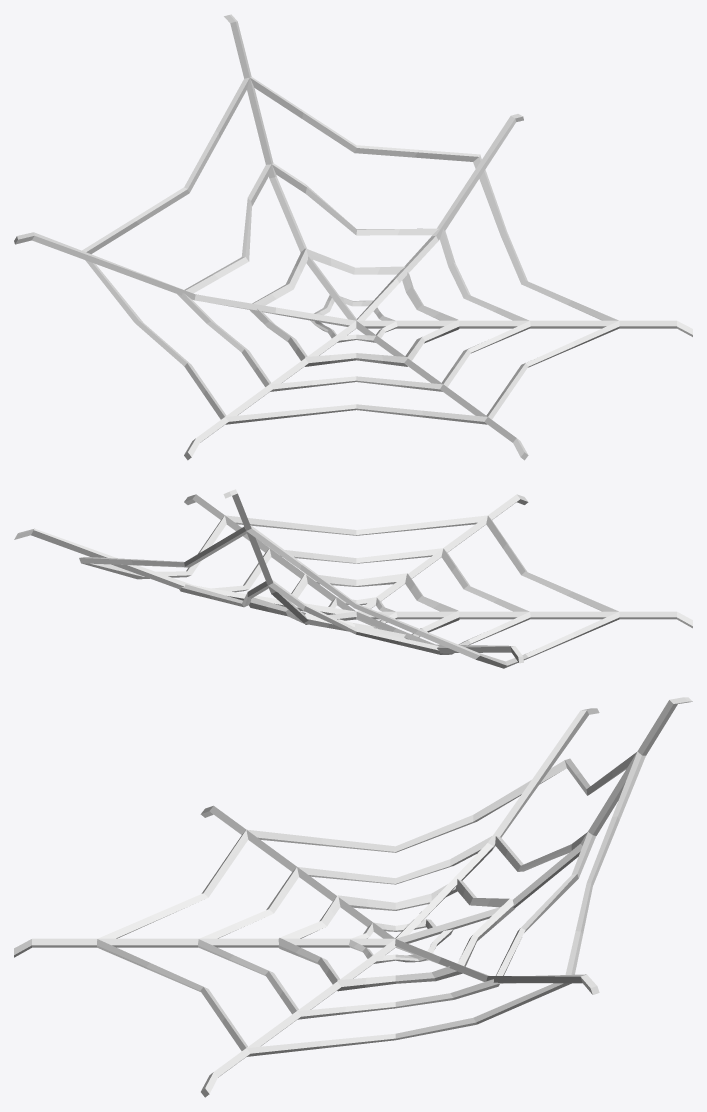
File: SpiderWebBottom.fbx
3 views of the same model, one above another, from view 1: azimuth 30°, elevation 25°; view 2: azimuth 150°, elevation 25°; view 3: azimuth 270°, elevation 25° (orthographic). The views are drawn at different scales.
Parts seen in each view (by area): view 1: SpiderWebBottom; view 2: SpiderWebBottom; view 3: SpiderWebBottom.
Boxes of the visible parts, box(x1,y1,x2,y2) form: SpiderWebBottom: box(14, 14, 692, 460); SpiderWebBottom: box(14, 489, 692, 668); SpiderWebBottom: box(14, 697, 692, 1097).
Size of the model in its own units: 81.76 by 35.24 by 83.19.
1 material, 1 textured.
